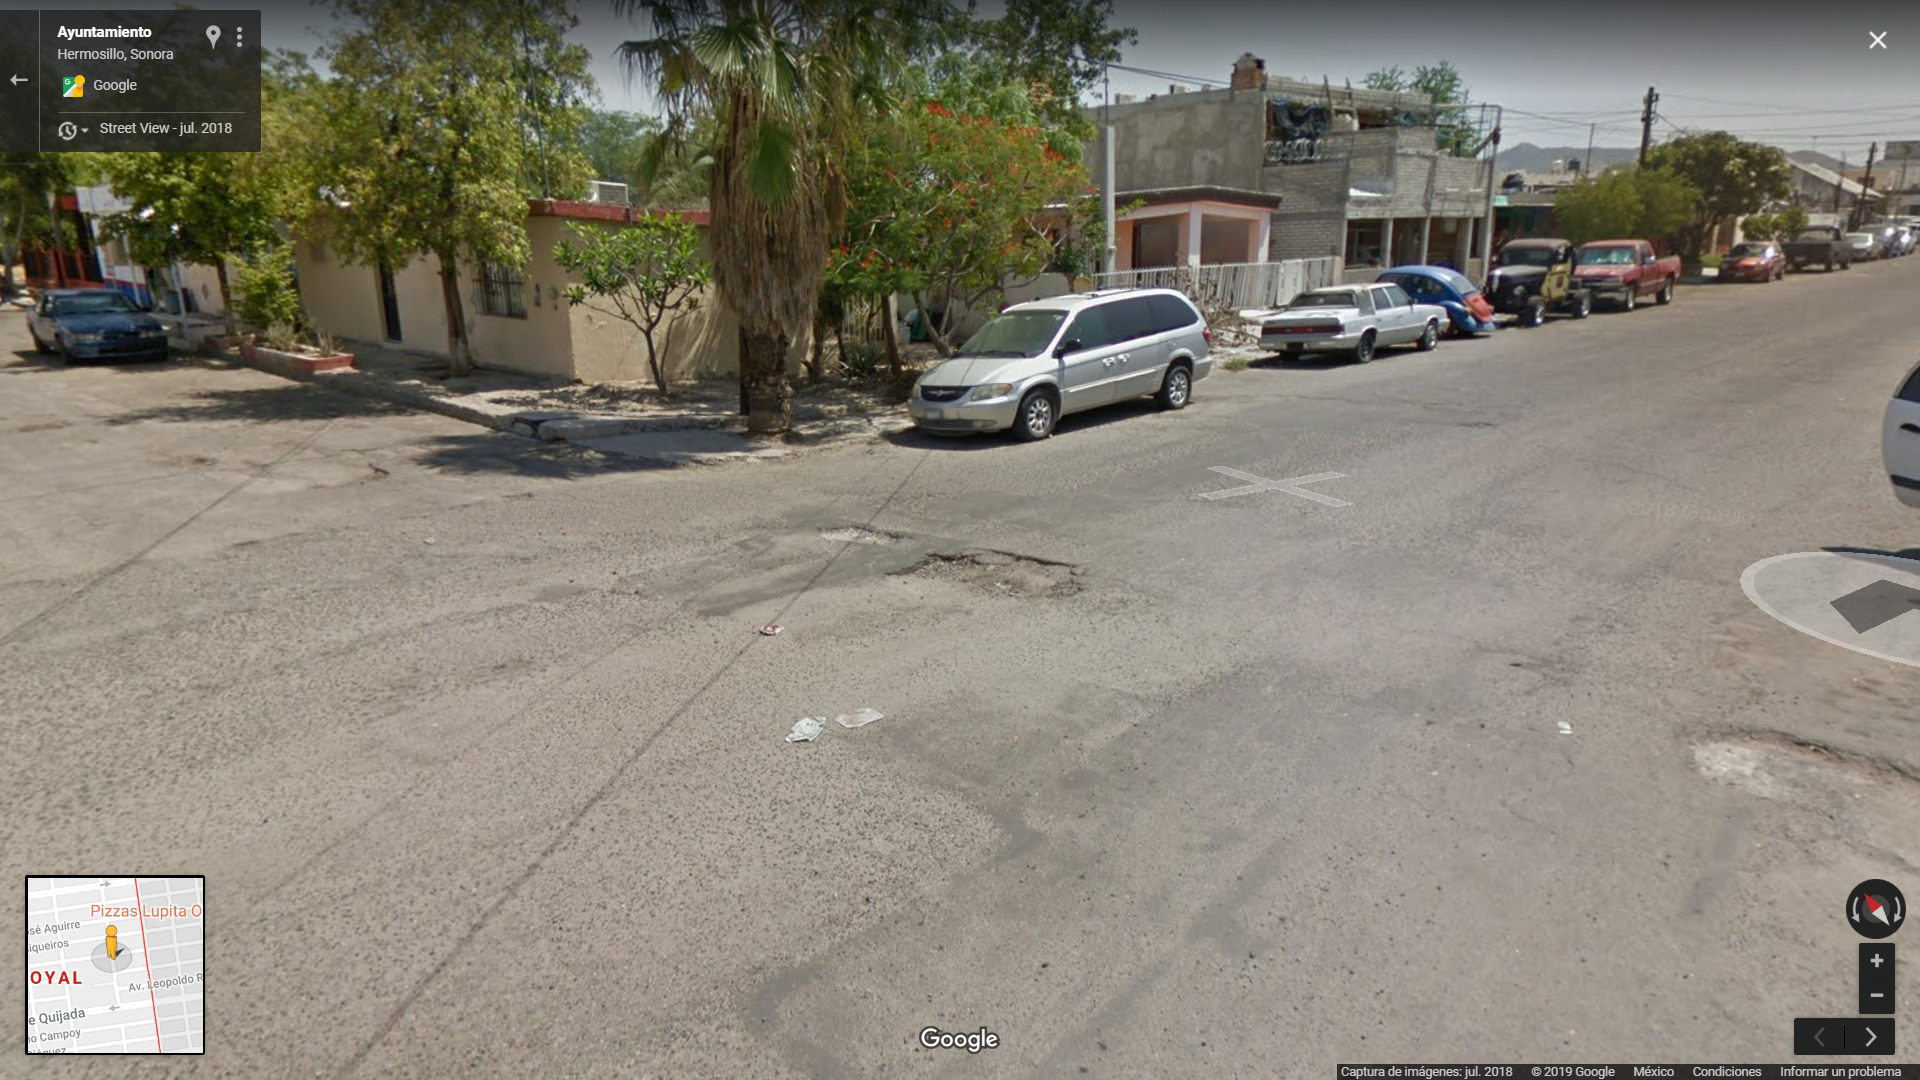pothole: (1654, 684, 1920, 885), (887, 526, 1079, 620), (822, 509, 899, 556)
